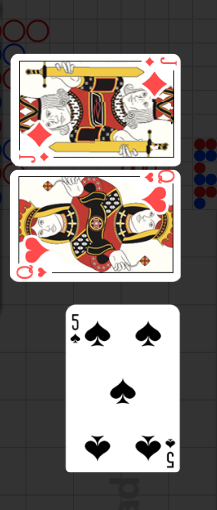5S: (69, 312, 82, 346), (163, 436, 176, 469)
9D: (144, 55, 178, 67)
